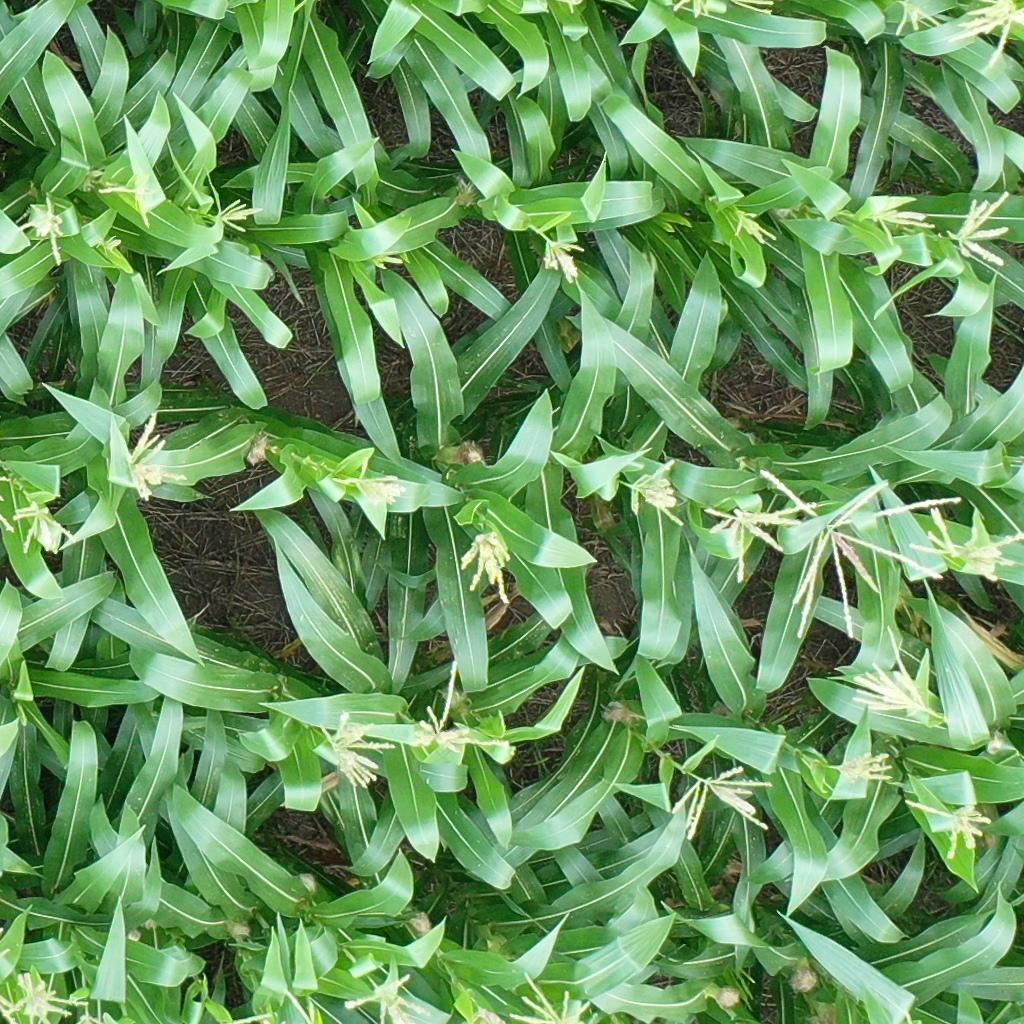Tassel: (756, 466, 965, 641), (411, 656, 513, 762), (696, 499, 815, 584), (847, 625, 947, 726), (909, 504, 1024, 582), (668, 763, 775, 843), (316, 707, 400, 788), (1, 474, 77, 556), (122, 412, 188, 502), (946, 188, 1016, 269), (901, 797, 992, 858), (1, 971, 98, 1024), (507, 971, 597, 1024), (456, 527, 515, 607), (620, 456, 685, 526), (962, 1, 1024, 73), (14, 194, 70, 269), (346, 973, 427, 1024), (335, 453, 410, 508), (93, 166, 160, 224), (863, 197, 936, 244), (186, 195, 265, 238), (533, 230, 588, 288), (824, 744, 896, 785), (728, 203, 779, 246), (890, 1, 941, 35), (367, 252, 407, 273), (728, 1, 776, 16), (94, 232, 123, 256), (672, 1, 713, 16)
